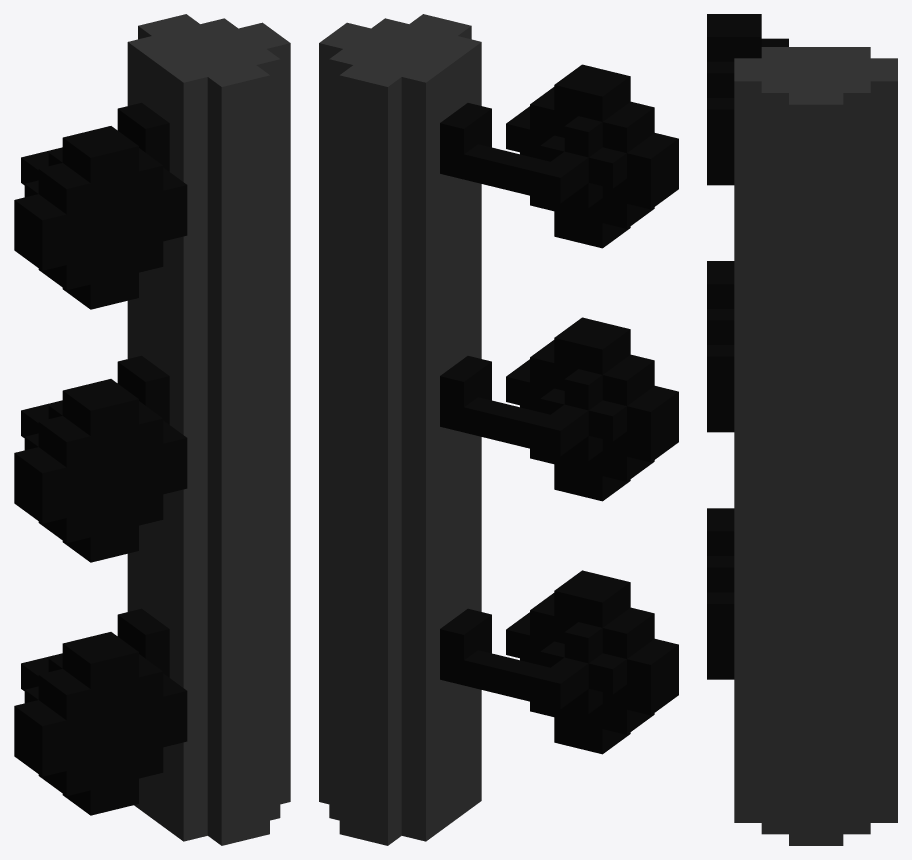
Rendered from Frame_Feu_00.obj.
The picture shows the model from 3 angles, left to right: view 1: azimuth 30°, elevation 25°; view 2: azimuth 150°, elevation 25°; view 3: azimuth 270°, elevation 25°; orthographic projection. The views are drawn at different scales.
Size of the model in its own units: 12 by 30 by 7.
Materials: 1 (1 with a texture image).
